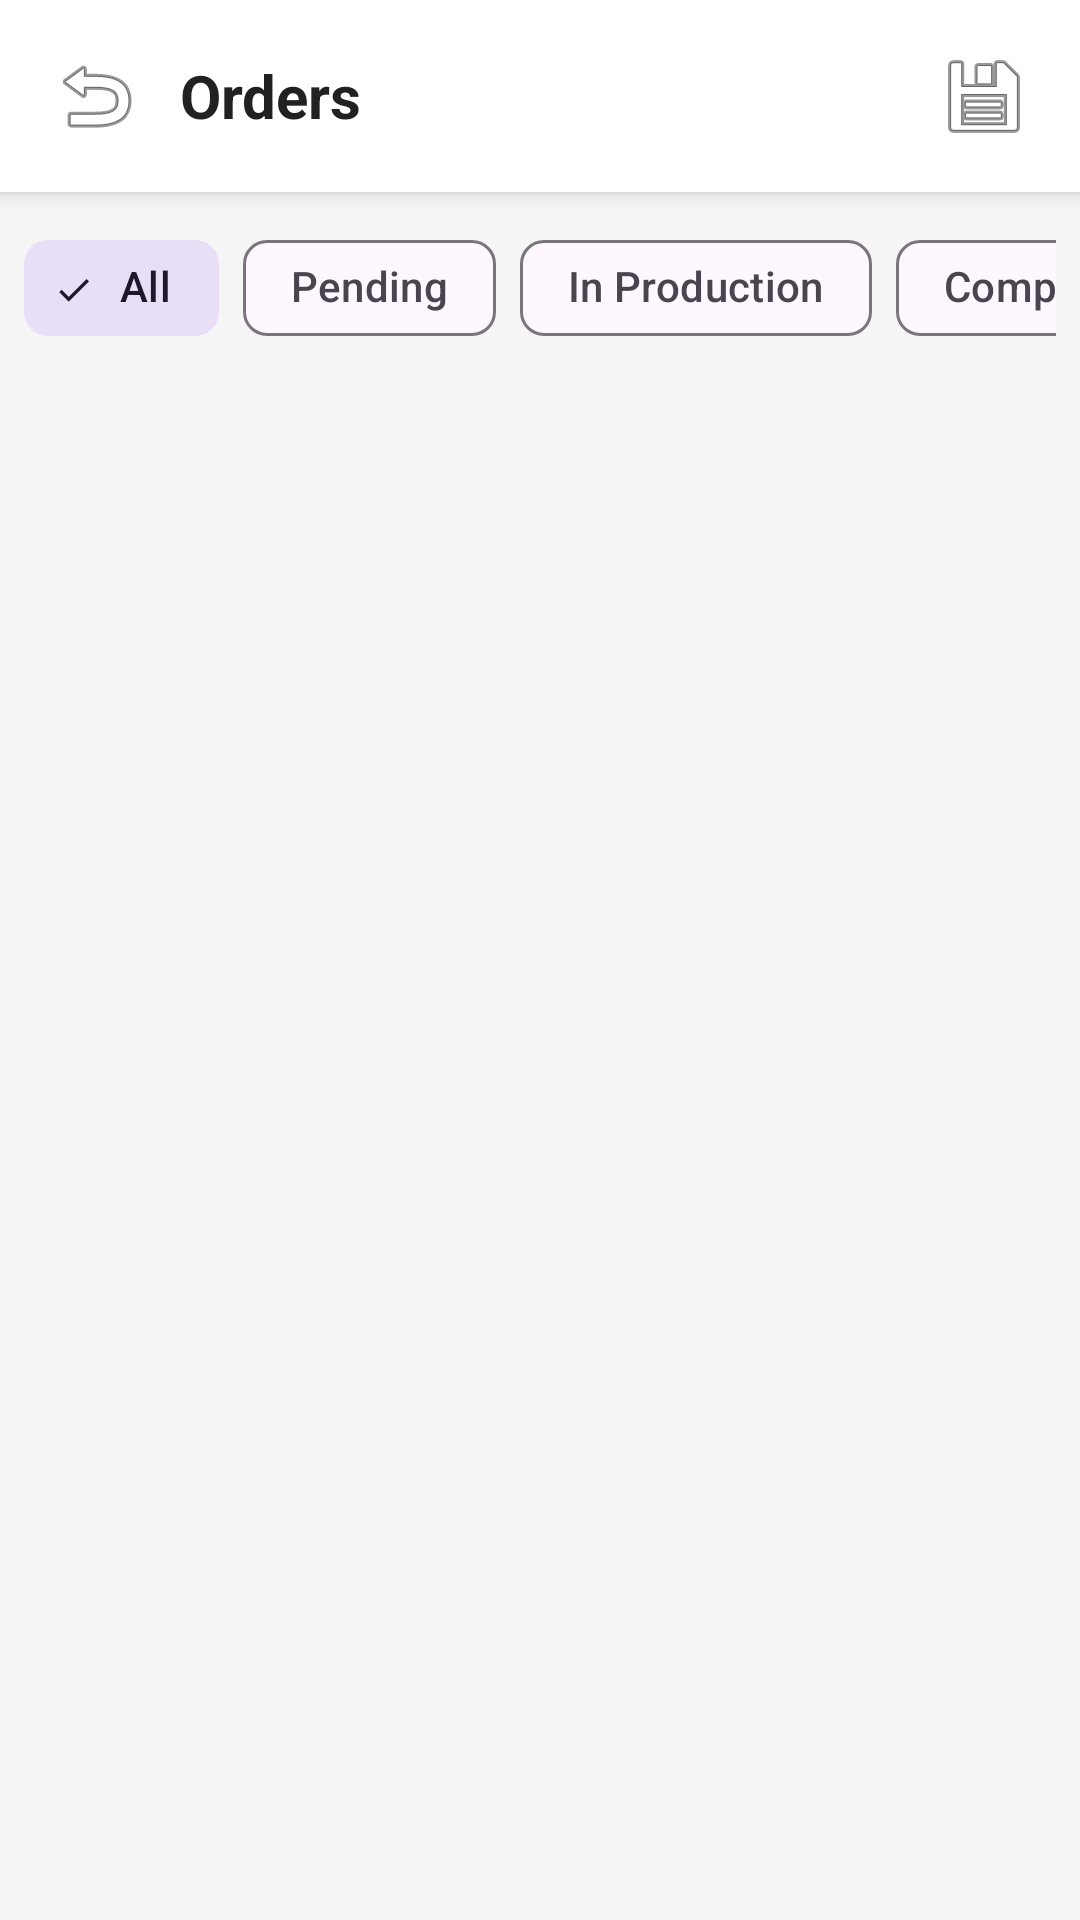

Screen size 1080w x 1920h. Icon name, then its center in pixels as point (x, y):
Back: point (97, 96)
